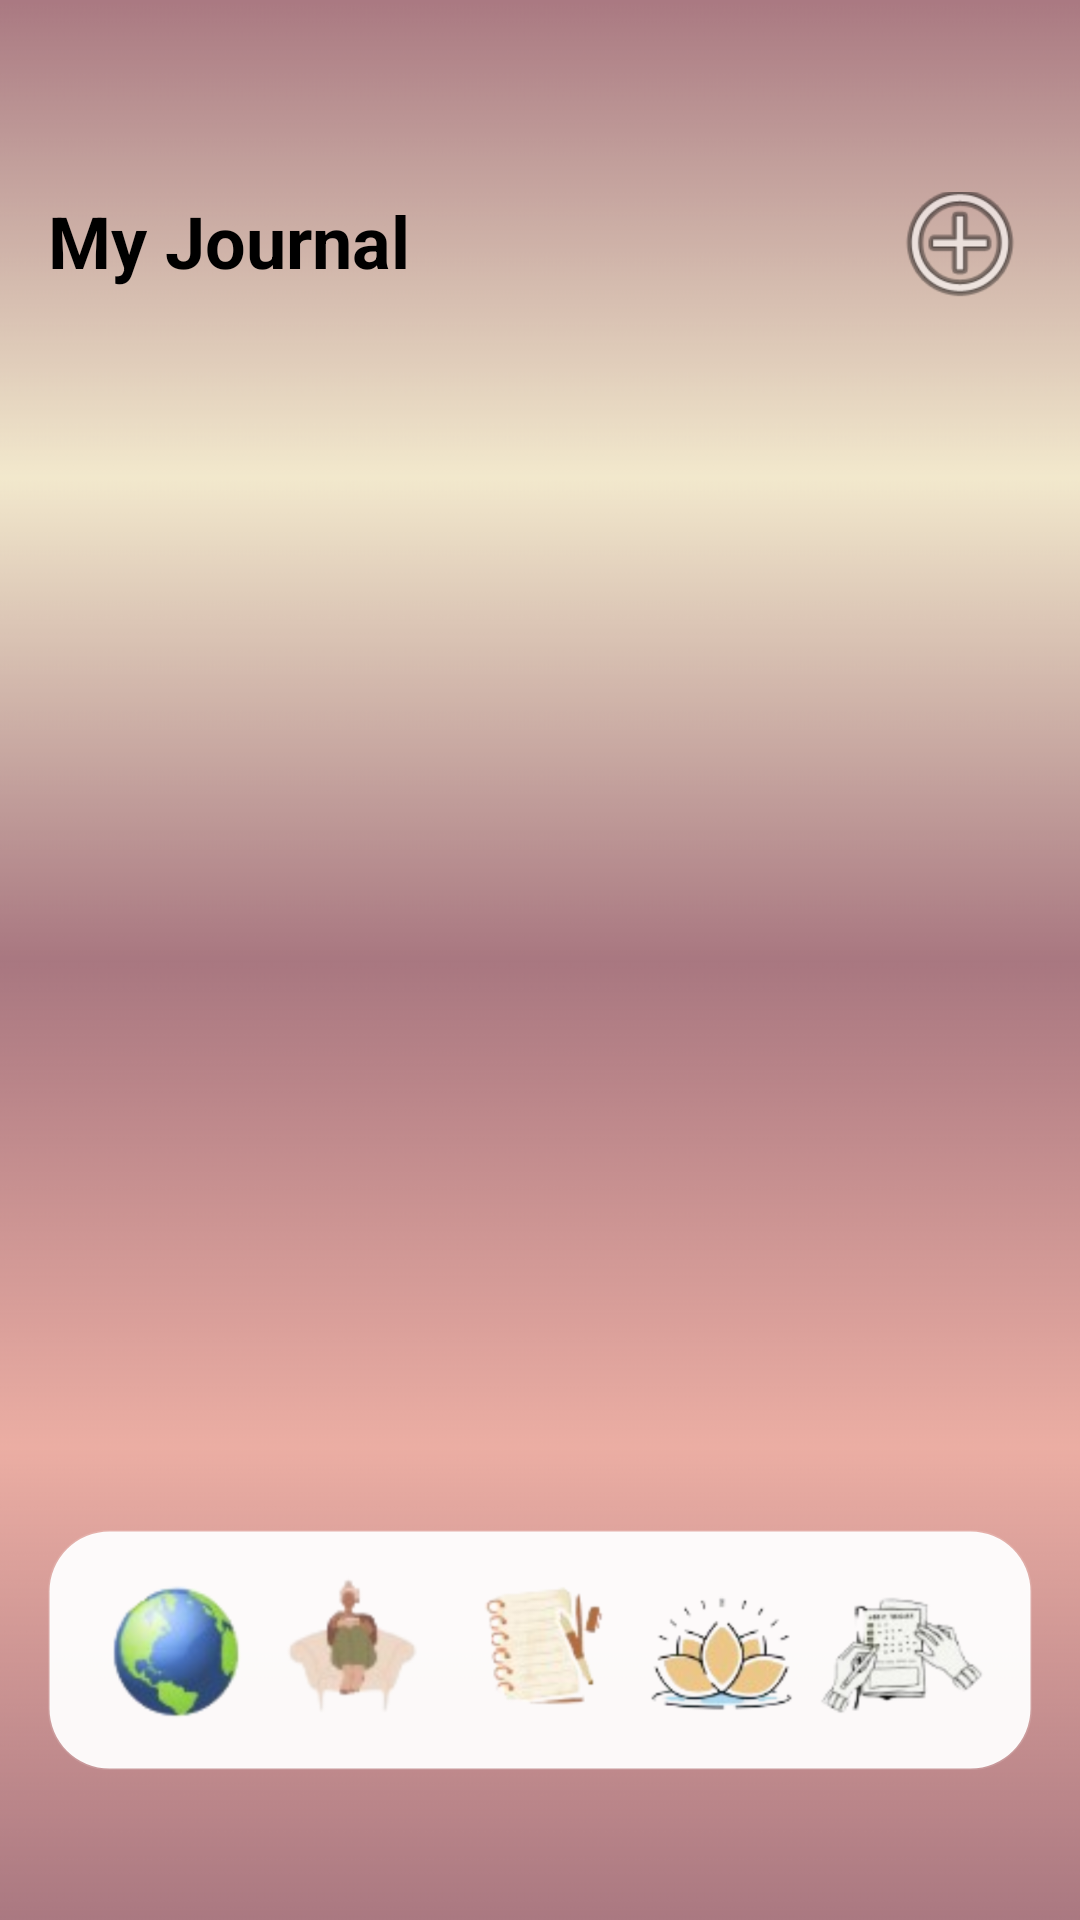

Point at icon controls on the screen. Image size 1080 x 1920, points as [x,y].
Add note: [960,242]
journal: [544,1646]
travels: [176,1651]
